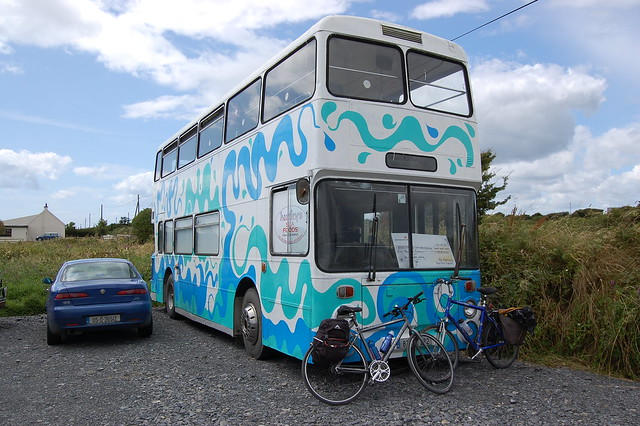bus: (152, 15, 481, 365)
car: (43, 258, 153, 346)
